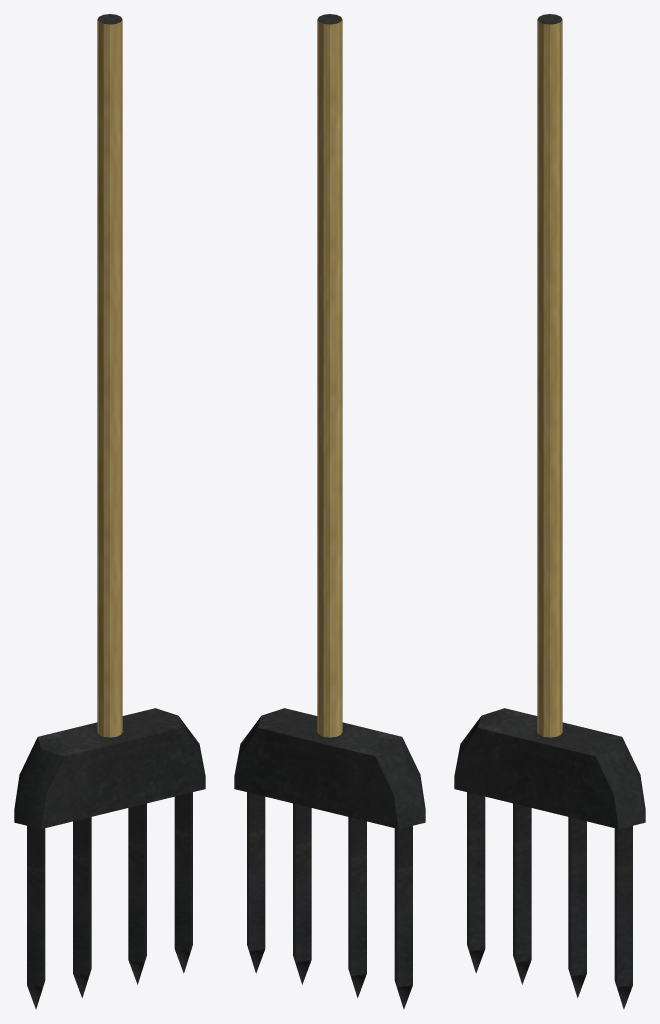
The model's file is Pitchfork.fbx.
3 renders of one model, left to right at view 1: azimuth 30°, elevation 25°; view 2: azimuth 150°, elevation 25°; view 3: azimuth 330°, elevation 25°, orthographic.
Visible parts, largest first — view 1: Pitchfork1; view 2: Pitchfork1; view 3: Pitchfork1.
Part boxes in pixels (box(x1,y1,x2,y2)): Pitchfork1: box(14, 14, 205, 1009); Pitchfork1: box(234, 14, 425, 1009); Pitchfork1: box(454, 14, 645, 1009).
Size of the model in its own units: 1.23 by 6 by 0.3.
1 material, 1 textured.
